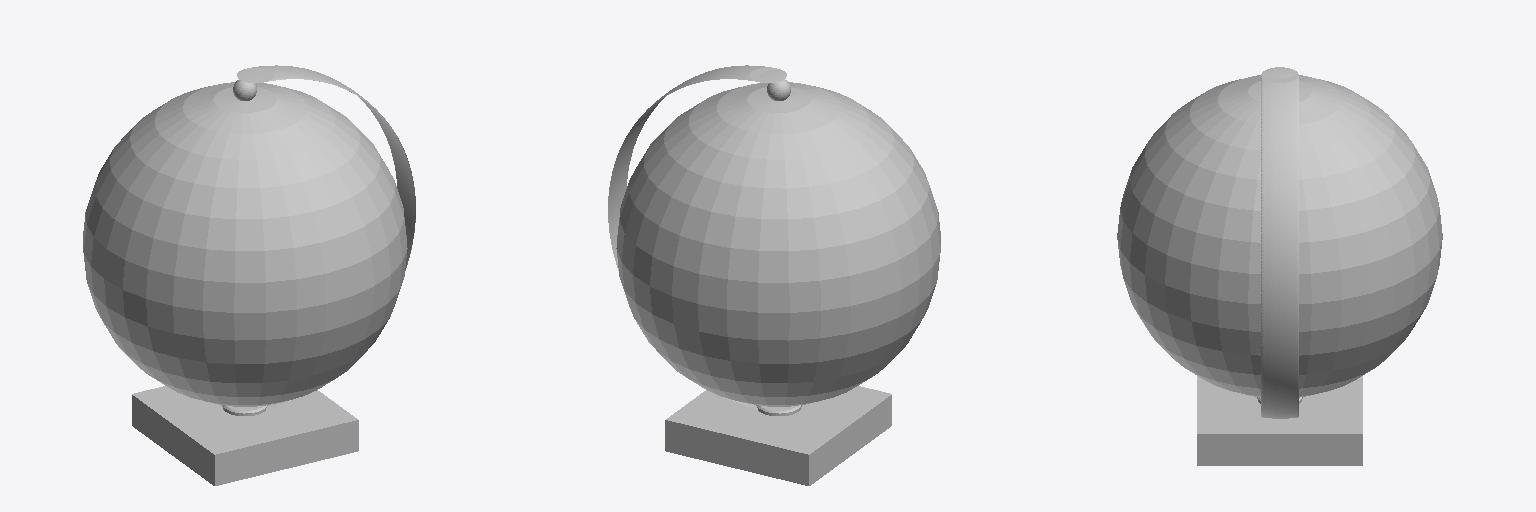
Rendered from world.obj.
The picture shows the model from 3 angles: view 1: azimuth 30°, elevation 25°; view 2: azimuth 150°, elevation 25°; view 3: azimuth 270°, elevation 25°; orthographic projection.
Parts seen in each view (by area): view 1: Sphere, Cube, Cylinder.002; view 2: Sphere, Cube, Cylinder.002; view 3: Sphere, Cylinder.002, Cube.
Boxes of the visible parts, x1=… form: Sphere: x1=83, y1=82, x2=407, y2=406; Cube: x1=132, y1=386, x2=358, y2=485; Cylinder.002: x1=237, y1=65, x2=415, y2=409; Sphere: x1=616, y1=82, x2=940, y2=406; Cube: x1=665, y1=386, x2=891, y2=485; Cylinder.002: x1=608, y1=65, x2=786, y2=409; Sphere: x1=1117, y1=75, x2=1442, y2=397; Cylinder.002: x1=1261, y1=67, x2=1298, y2=418; Cube: x1=1197, y1=376, x2=1362, y2=465.
Size of the model in its own units: 2.68 by 3.04 by 2.48.